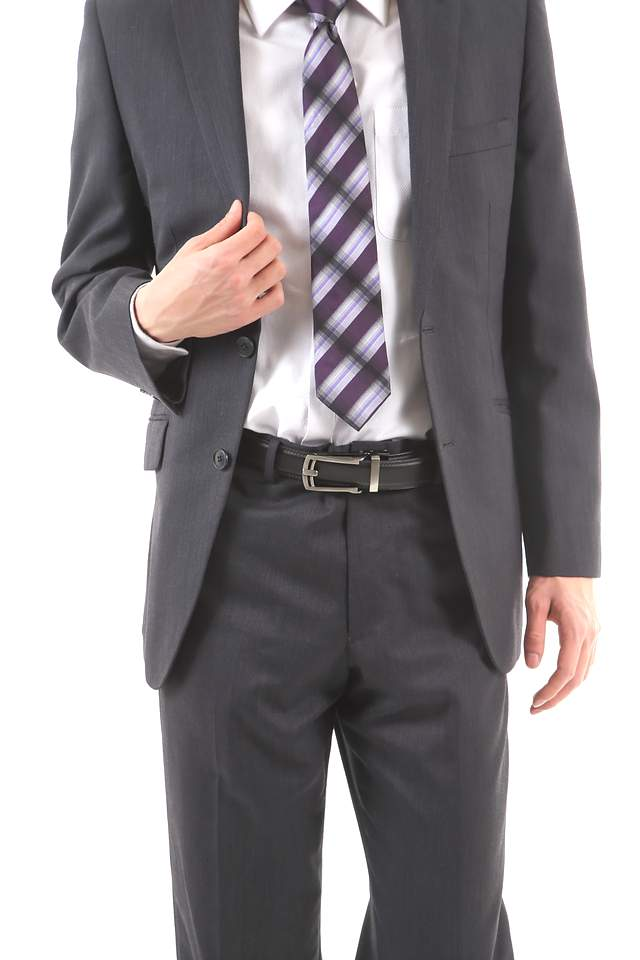F_M_suit jacket: (62, 1, 587, 669)
F_belt: (223, 434, 444, 506)
F_dress pants: (160, 425, 524, 960)
F_tie: (287, 6, 404, 419)
